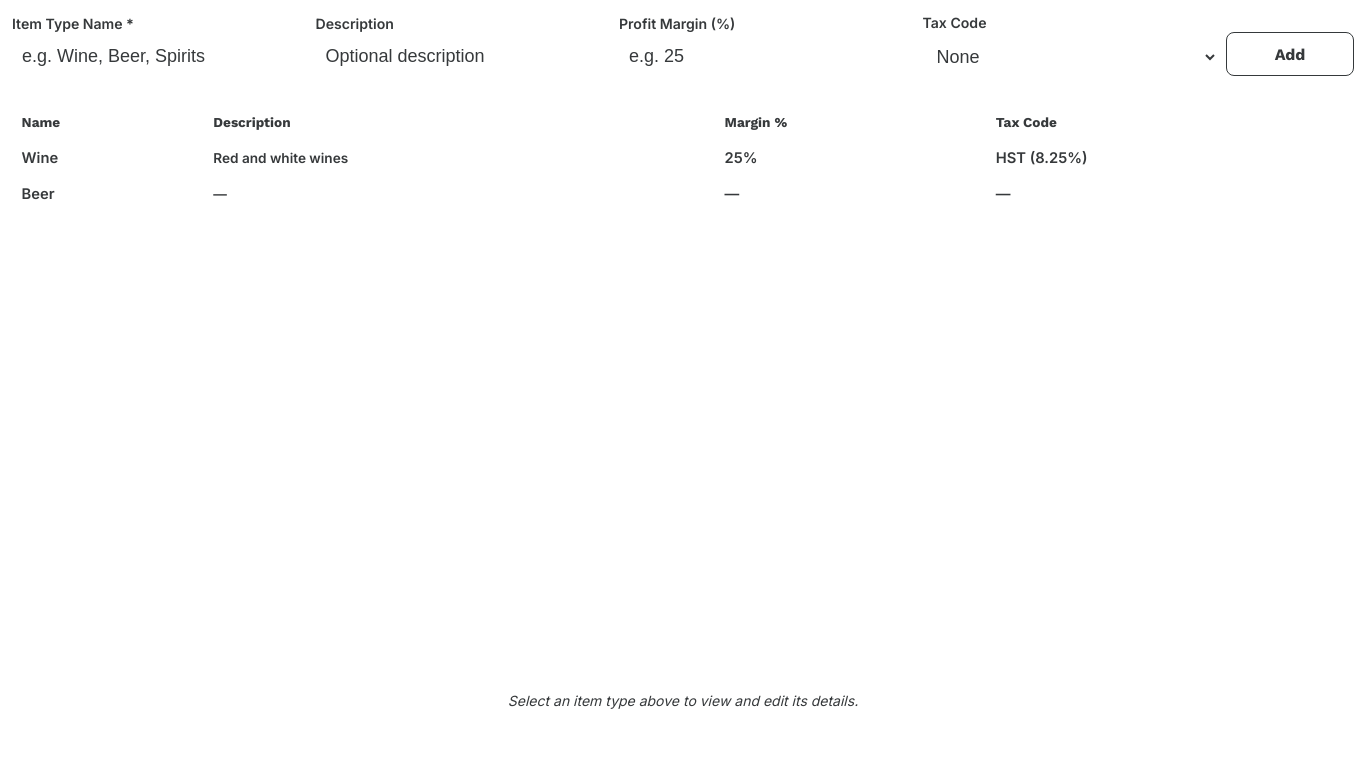
Scenario: ItemTypePanel › saves item type edits with new fields
Click the text "Wine": (40, 158) [12,141,1354,177]
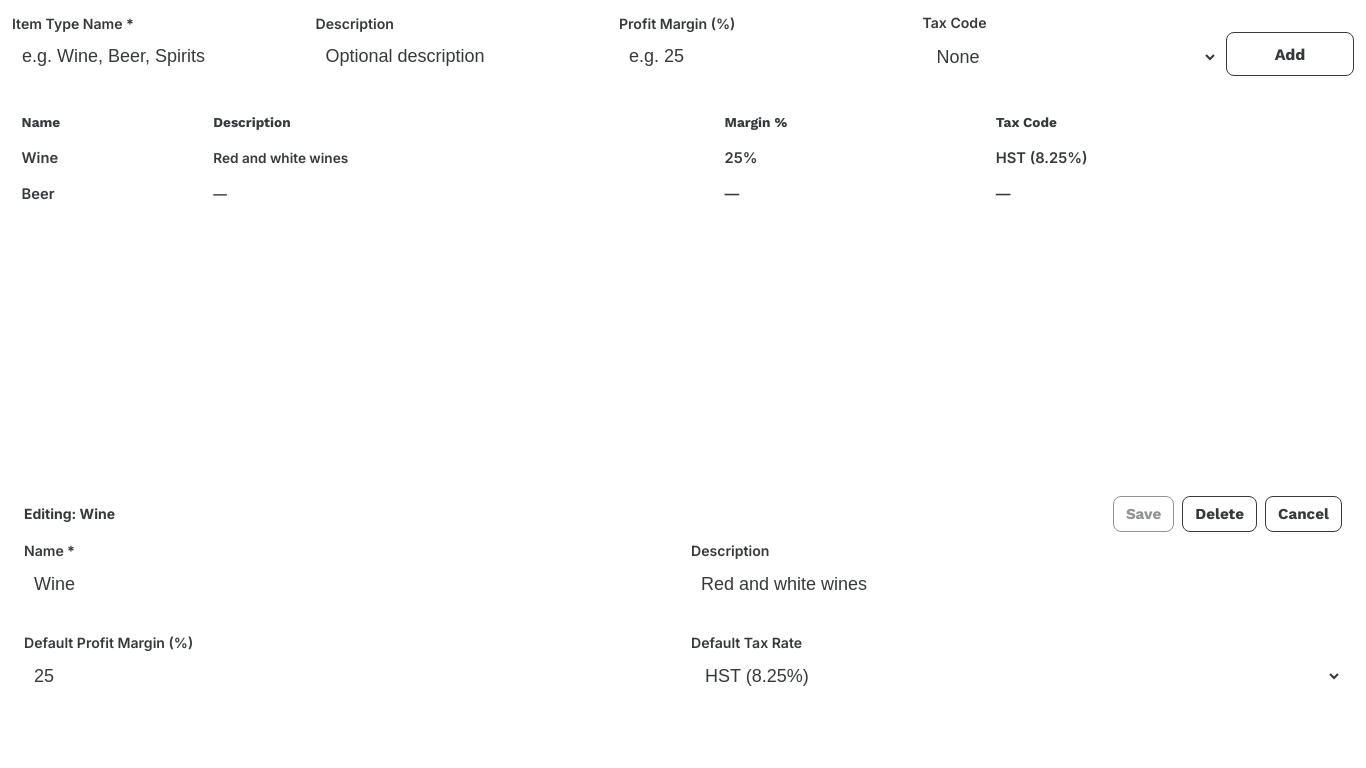
Replace the text in the field named "Edit Item Type Name" with "Red Wine": (350, 584) [24,566,675,603]
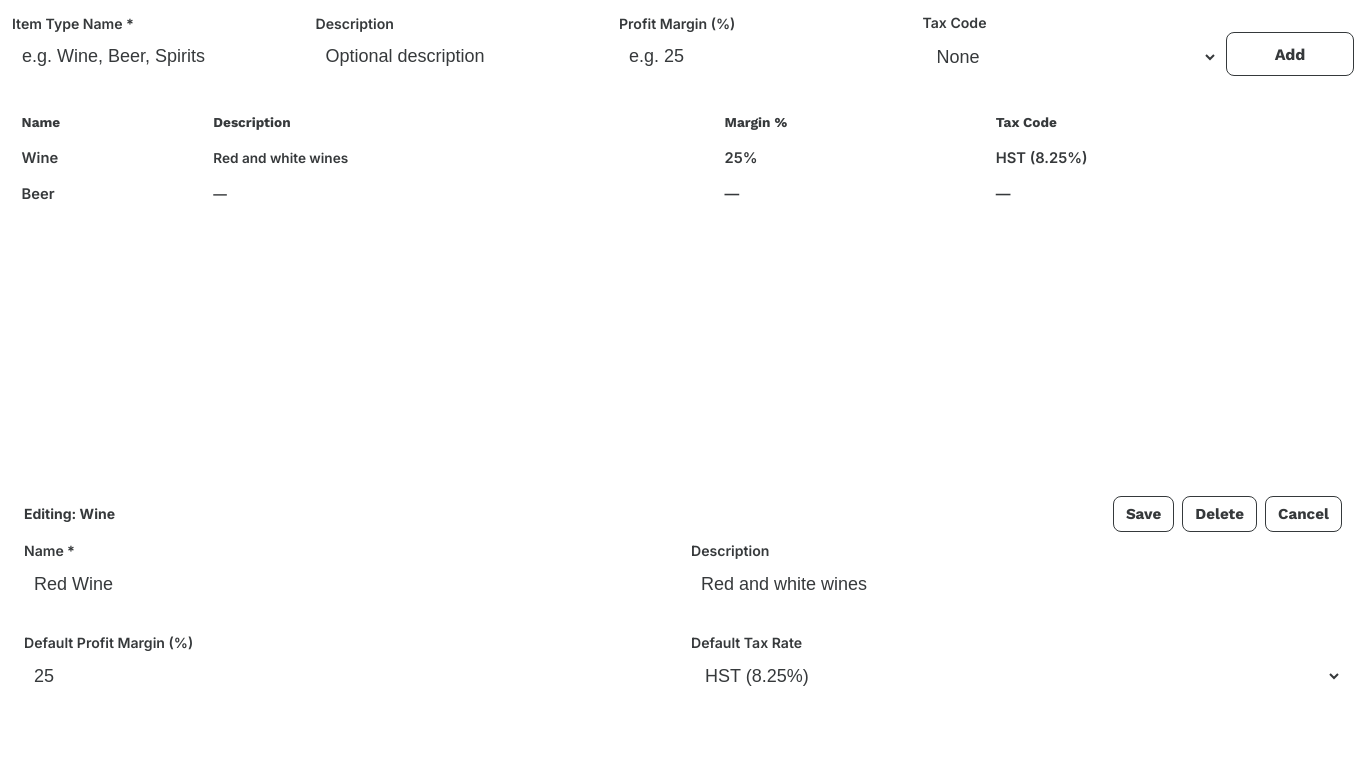
Replace the text in the field named "Edit Item Type Description" with "Premium reds": (1016, 584) [691,566,1342,603]
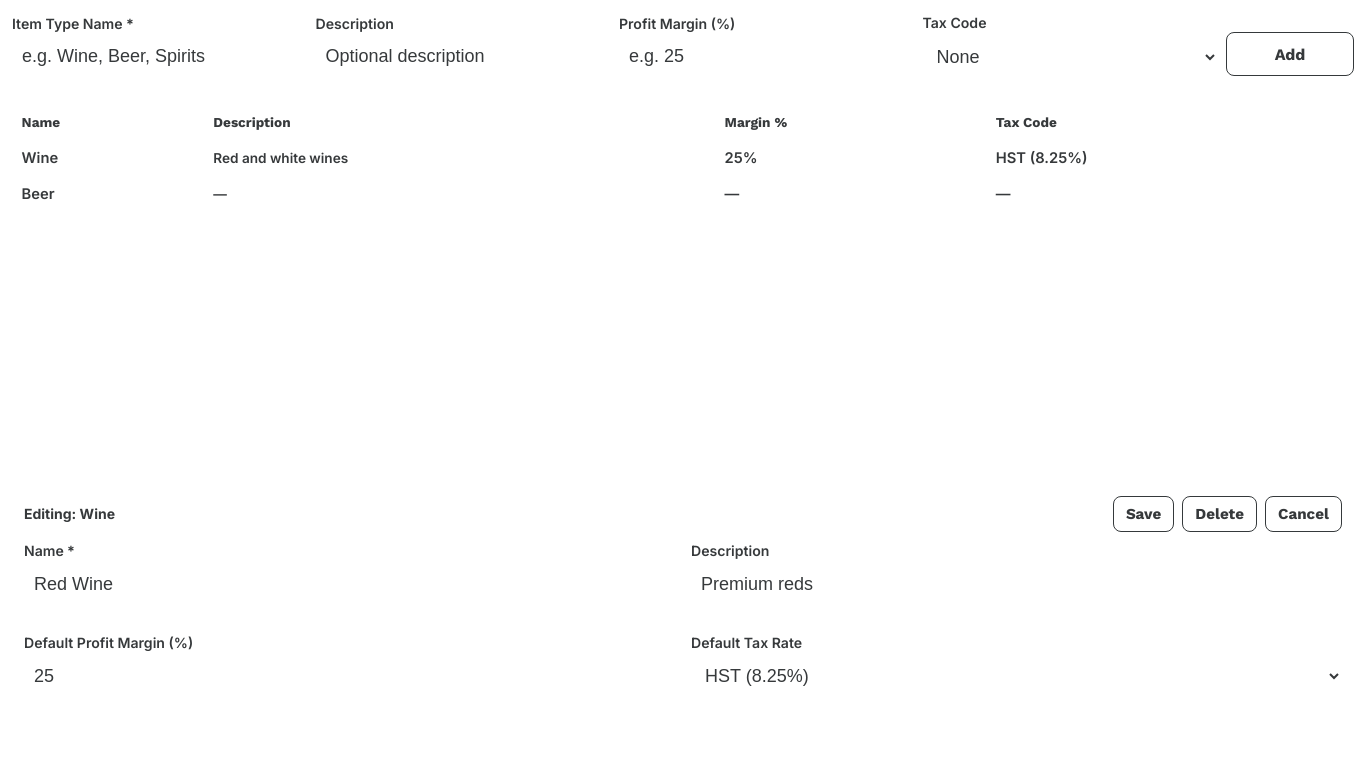
Replace the text in the number field named "Edit Default Profit Margin" with "30": (350, 676) [24,658,675,695]
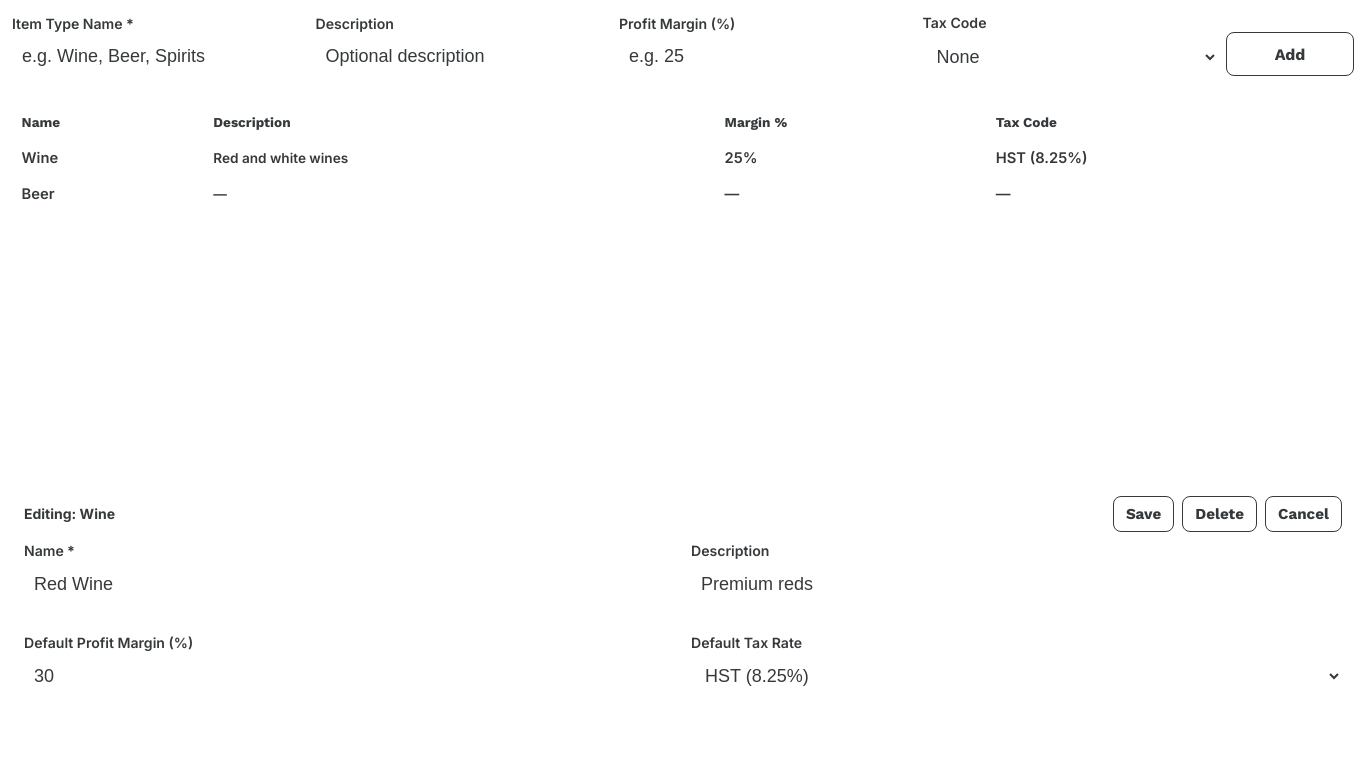
Note: Select PST (9.5%) from the dropdown
Select "PST (9.5%)" in the dropdown named "Edit Default Tax Rate": (1016, 676) [691,657,1342,695]
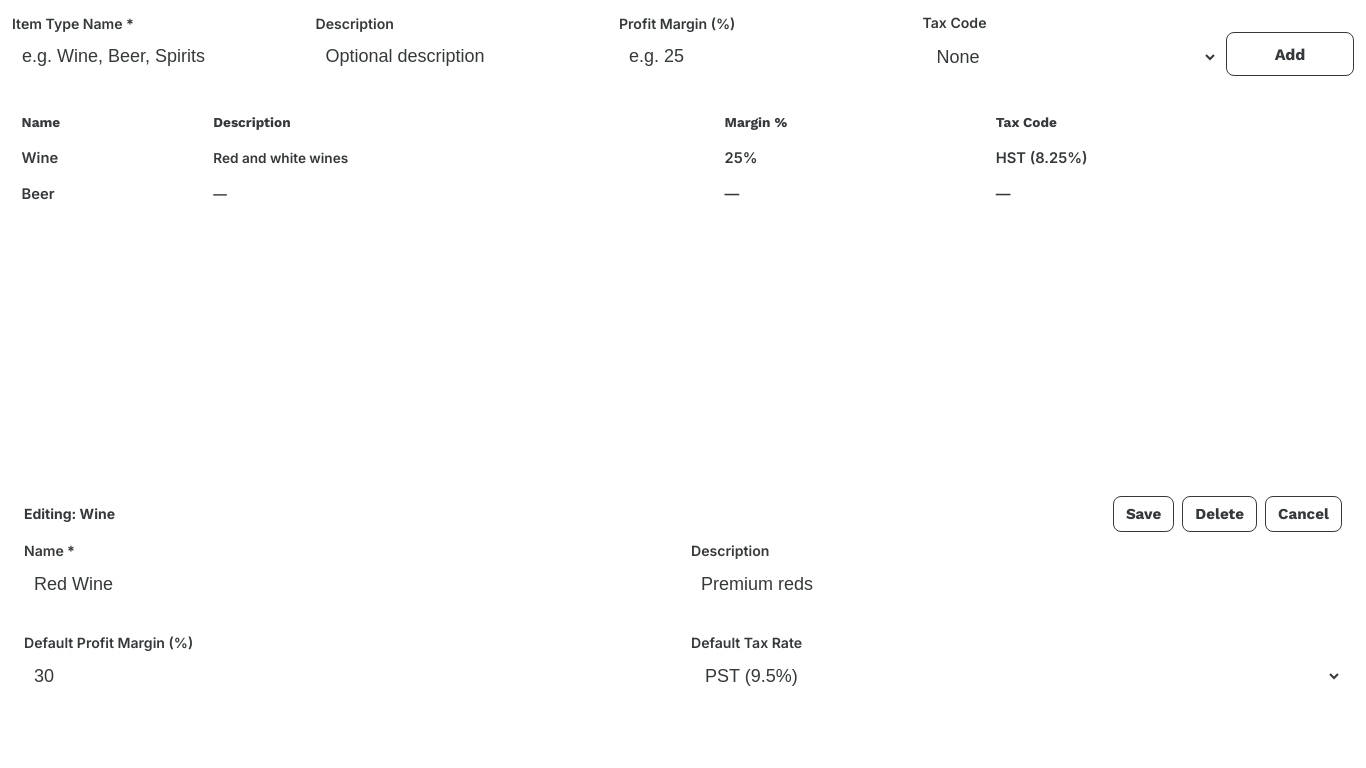
Click the button "Save": (1144, 514) [1113,496,1174,532]
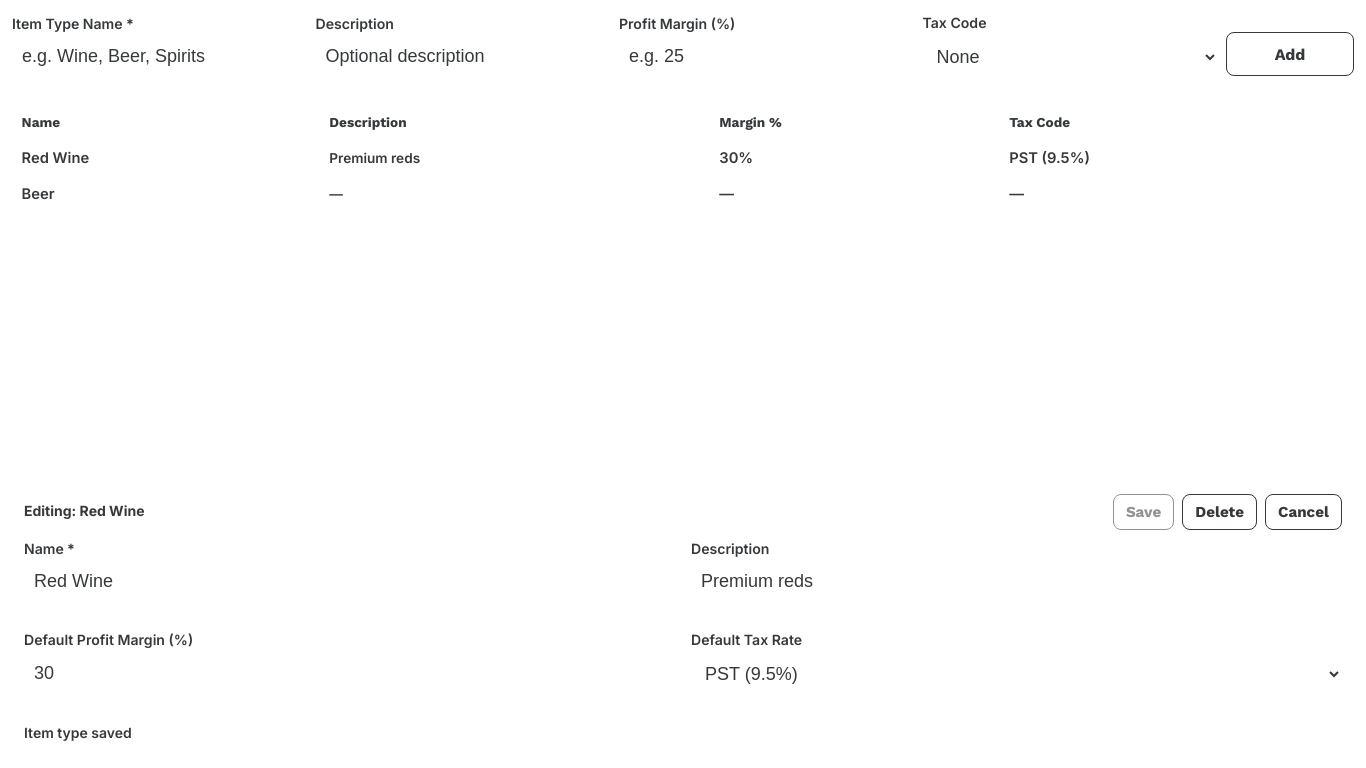
Expected: the text "Item type saved" is shown, [24,724,132,741]
